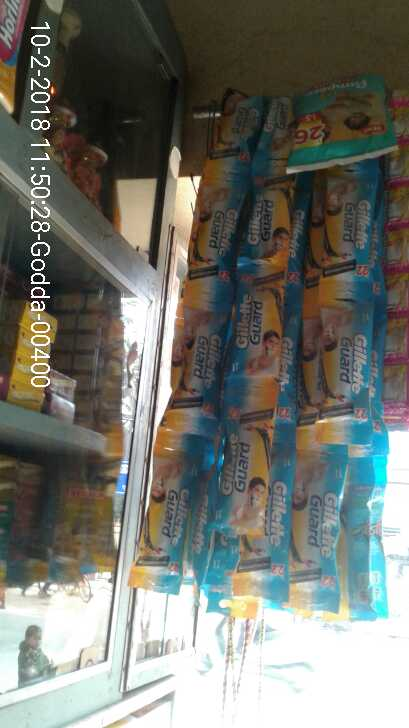gillette: (305, 288, 378, 414), (142, 422, 197, 579), (297, 446, 349, 606), (212, 415, 280, 532), (167, 279, 224, 412), (177, 170, 245, 276), (230, 297, 287, 420), (317, 164, 383, 268), (234, 182, 299, 278), (200, 87, 257, 157)
